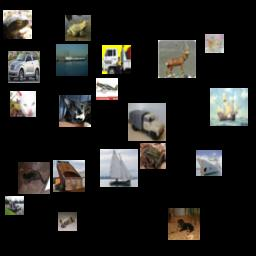airplane: (96, 78, 118, 100)
automobile: (8, 51, 40, 83)
cat: (18, 162, 50, 194), (59, 95, 91, 127), (10, 91, 36, 117), (58, 212, 77, 231), (205, 34, 224, 53)
deer: (158, 40, 196, 78)
dog: (168, 208, 200, 240)
frog: (3, 10, 32, 39), (65, 15, 91, 41), (140, 143, 166, 169)
ship: (210, 88, 248, 126), (100, 149, 138, 187), (56, 44, 88, 76), (196, 150, 222, 176), (5, 196, 24, 215)
truck: (128, 103, 166, 141), (53, 160, 85, 192), (102, 45, 131, 74)
